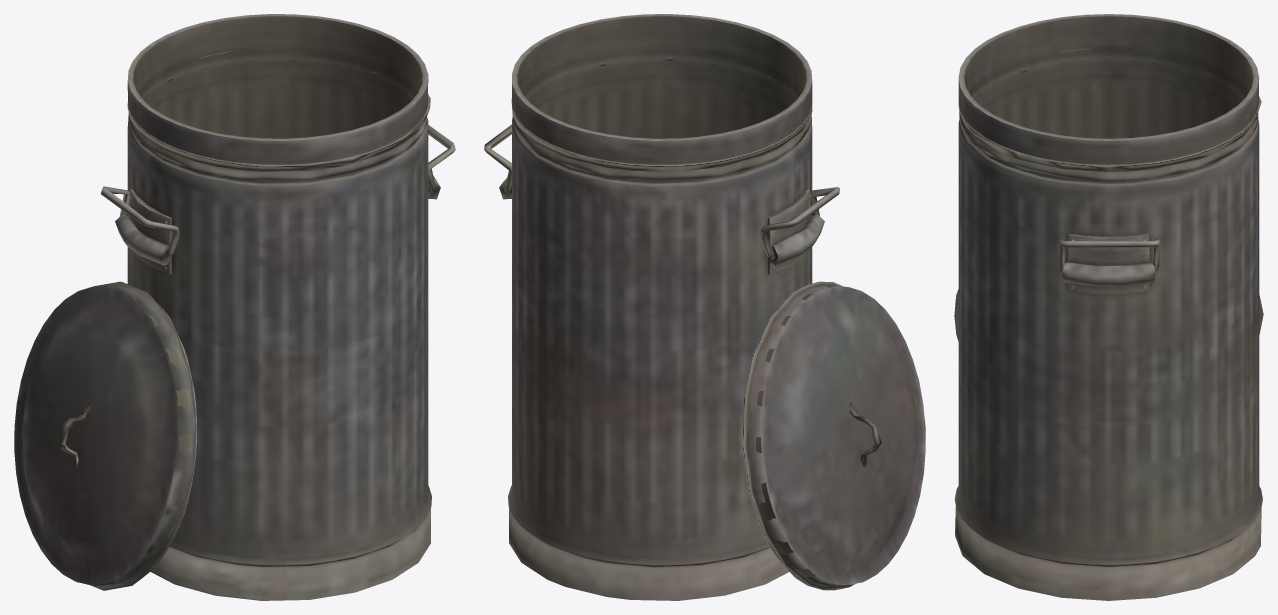
Rendered from trash-can-metal.lite.fa57a966.glb.
The picture shows the model from 3 angles, left to right: view 1: azimuth 30°, elevation 25°; view 2: azimuth 150°, elevation 25°; view 3: azimuth 270°, elevation 25°; orthographic projection.
Parts seen in each view (by area): view 1: model; view 2: model; view 3: model.
Part boxes in pixels (x1,y1,x2,y2): model: (14, 14, 455, 600); model: (484, 14, 925, 600); model: (954, 14, 1263, 600).
Size of the model in its own units: 0.7773 by 0.9062 by 0.5539.
Materials: 1 (1 with a texture image).
